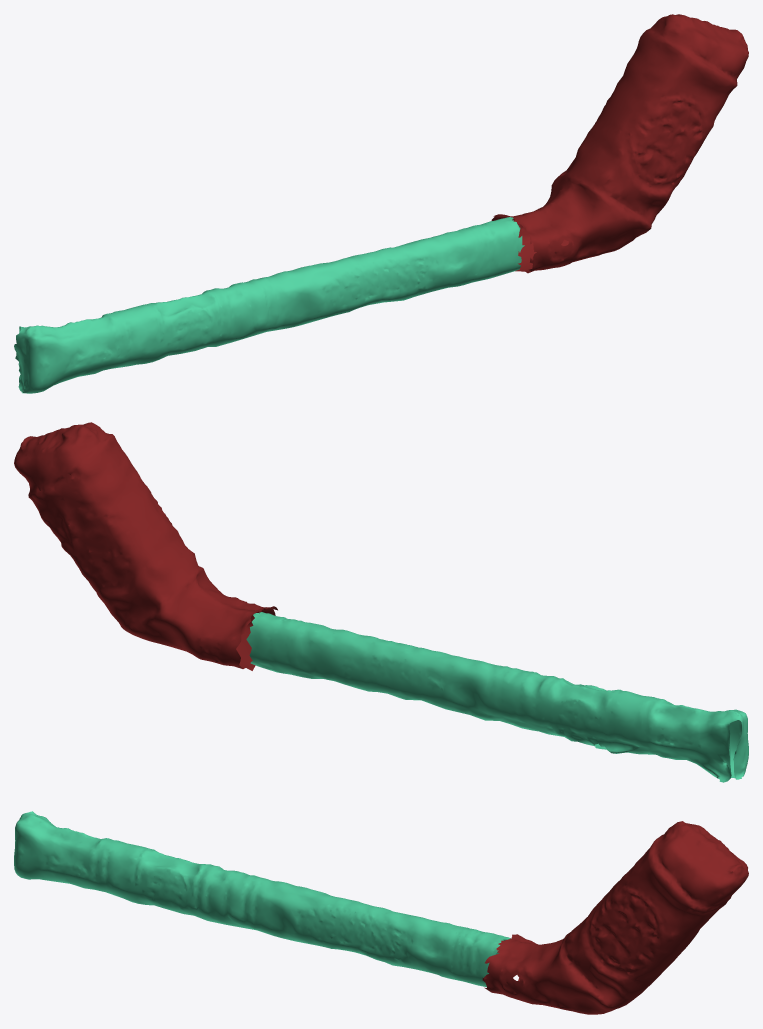
Rendered from object_deformed_7.obj.
The picture shows the model from 3 angles, top to bottom: view 1: azimuth 30°, elevation 25°; view 2: azimuth 150°, elevation 25°; view 3: azimuth 330°, elevation 25°; orthographic projection. The views are drawn at different scales.
Bounding box in the file's own units: 0.6064 × 0.1656 × 0.0781.
